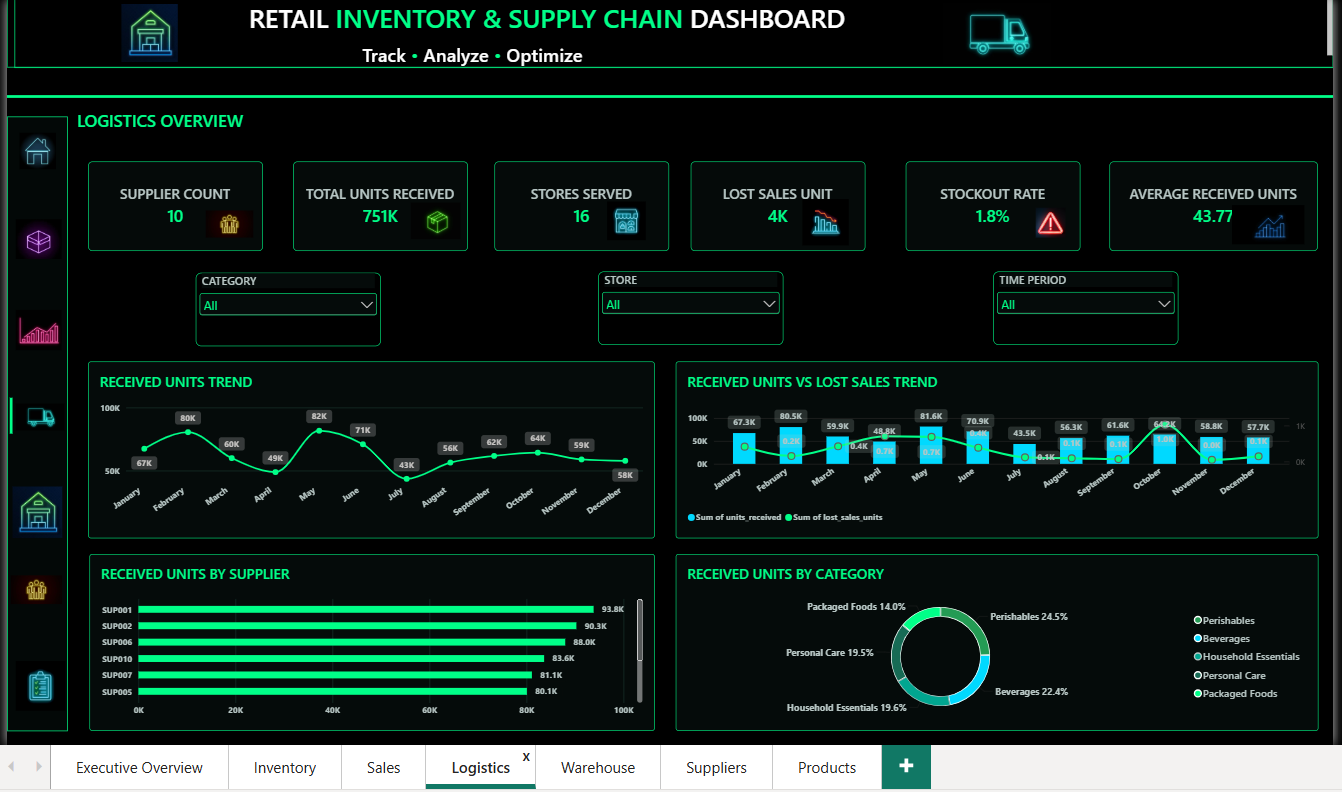

Layout of this report page (visuals, bound fields, positions):
{"tool":"powerbi","page":{"name":"Logistics","canvas":[1920,1080],"ordinal":3},"visuals":[{"type":"shape","box":[10.3,0,1910.1,100],"z":0},{"type":"shape","box":[0,99.5,1920.1,83.2],"z":1000},{"type":"textbox","box":[0,0,1920.1,99.5],"z":2000},{"type":"image","box":[1356,0,156,100],"z":3000},{"type":"shape","box":[0,170,88,890],"z":4000},{"type":"image","box":[10.9,193.6,67,52.5],"z":5000},{"type":"shape","box":[0,578,12,52],"z":6000},{"type":"image","box":[12,300,66,94],"z":7000},{"type":"image","box":[12,418,66,122],"z":8000},{"type":"image","box":[12,560,70,92],"z":9000},{"type":"image","box":[8,706,74,74],"z":10000},{"type":"image","box":[6,780,74,150],"z":11000},{"type":"image","box":[12,932,72,124],"z":12000},{"type":"textbox","box":[102,142,306,52],"z":13000},{"type":"cardVisual","fields":{"Data":["Count(inventory_ledger_clean.supplier_id)"]},"box":[117.4,234.7,253,129.5],"z":14000},{"type":"cardVisual","fields":{"Data":["inventory_ledger_clean.Total Units Received"]},"box":[414.8,234.7,253,129.5],"z":15000},{"type":"cardVisual","fields":{"Data":["Count(inventory_ledger_clean.store_id)"]},"box":[706.2,234.7,253,129.5],"z":16000},{"type":"cardVisual","fields":{"Data":["inventory_ledger_clean.Lost Sales Units"]},"box":[989.5,234.7,253,129.5],"z":17000},{"type":"cardVisual","fields":{"Data":["inventory_ledger_clean.Stockout Rate"]},"box":[1301.2,234.7,253,129.5],"z":18000},{"type":"cardVisual","fields":{"Data":["Avg(inventory_ledger_clean.units_received)"]},"box":[1596.6,234.7,301.5,129.5],"z":19000},{"type":"lineChart","title":"RECEIVED UNITS TREND","fields":{"Category":["inventory_ledger_clean.week_start.Variation.Date Hierarchy.Month"],"Y":["Sum(inventory_ledger_clean.units_received)"]},"box":[118,524,820,256],"z":20000},{"type":"donutChart","title":"RECEIVED UNITS BY CATEGORY","fields":{"Category":["inventory_ledger_clean.category"],"Y":["Sum(inventory_ledger_clean.units_received)"]},"box":[968,804,930,256],"z":21000},{"type":"clusteredBarChart","title":"RECEIVED UNITS BY SUPPLIER","fields":{"Category":["inventory_ledger_clean.supplier_id"],"Y":["Sum(inventory_ledger_clean.units_received)"]},"box":[120,804,818,256],"z":22000},{"type":"lineClusteredColumnComboChart","title":"RECEIVED UNITS VS LOST SALES TREND","fields":{"Y":["Sum(inventory_ledger_clean.units_received)"],"Category":["inventory_ledger_clean.week_start.Variation.Date Hierarchy.Month"],"Y2":["Sum(inventory_ledger_clean.lost_sales_units)"]},"box":[968,524,930,256],"z":23000},{"type":"slicer","fields":{"Values":["inventory_ledger_clean.category"]},"box":[274,396,268,106],"z":24000},{"type":"slicer","fields":{"Values":["inventory_ledger_clean.store_id"]},"box":[856,394,268,106],"z":25000},{"type":"slicer","fields":{"Values":["inventory_ledger_clean.week_start"]},"box":[1428,394,268,106],"z":26000},{"type":"image","box":[84,8,246,84],"z":27000},{"type":"image","box":[584.5,293.2,72.4,56.1],"z":28000},{"type":"image","box":[1141.9,289.5,86.9,67],"z":29000},{"type":"image","box":[1474.9,302.2,72.4,43.4],"z":30000},{"type":"image","box":[287.7,295,68.8,61.5],"z":31000},{"type":"image","box":[856,293.2,81.4,56.1],"z":32000},{"type":"image","box":[1773.5,289.5,105,74.2],"z":33000}]}

Visuals, with their boxes on the page's 1920x1080 design canvas (x1, y1, x2, y2). These are canvas units, not pixel positions in the 1342x792 screenshot, which may show the page scaled, cropped or inside an application window:
shape: box=[10, 0, 1920, 100]
shape: box=[0, 100, 1920, 183]
textbox: box=[0, 0, 1920, 100]
image: box=[1356, 0, 1512, 100]
shape: box=[0, 170, 88, 1060]
image: box=[11, 194, 78, 246]
shape: box=[0, 578, 12, 630]
image: box=[12, 300, 78, 394]
image: box=[12, 418, 78, 540]
image: box=[12, 560, 82, 652]
image: box=[8, 706, 82, 780]
image: box=[6, 780, 80, 930]
image: box=[12, 932, 84, 1056]
textbox: box=[102, 142, 408, 194]
cardVisual - Count(inventory_ledger_clean.supplier_id): box=[117, 235, 370, 364]
cardVisual - inventory_ledger_clean.Total Units Received: box=[415, 235, 668, 364]
cardVisual - Count(inventory_ledger_clean.store_id): box=[706, 235, 959, 364]
cardVisual - inventory_ledger_clean.Lost Sales Units: box=[990, 235, 1242, 364]
cardVisual - inventory_ledger_clean.Stockout Rate: box=[1301, 235, 1554, 364]
cardVisual - Avg(inventory_ledger_clean.units_received): box=[1597, 235, 1898, 364]
"RECEIVED UNITS TREND" lineChart: box=[118, 524, 938, 780]
"RECEIVED UNITS BY CATEGORY" donutChart: box=[968, 804, 1898, 1060]
"RECEIVED UNITS BY SUPPLIER" clusteredBarChart: box=[120, 804, 938, 1060]
"RECEIVED UNITS VS LOST SALES TREND" lineClusteredColumnComboChart: box=[968, 524, 1898, 780]
slicer - inventory_ledger_clean.category: box=[274, 396, 542, 502]
slicer - inventory_ledger_clean.store_id: box=[856, 394, 1124, 500]
slicer - inventory_ledger_clean.week_start: box=[1428, 394, 1696, 500]
image: box=[84, 8, 330, 92]
image: box=[584, 293, 657, 349]
image: box=[1142, 290, 1229, 356]
image: box=[1475, 302, 1547, 346]
image: box=[288, 295, 356, 356]
image: box=[856, 293, 937, 349]
image: box=[1774, 290, 1878, 364]
